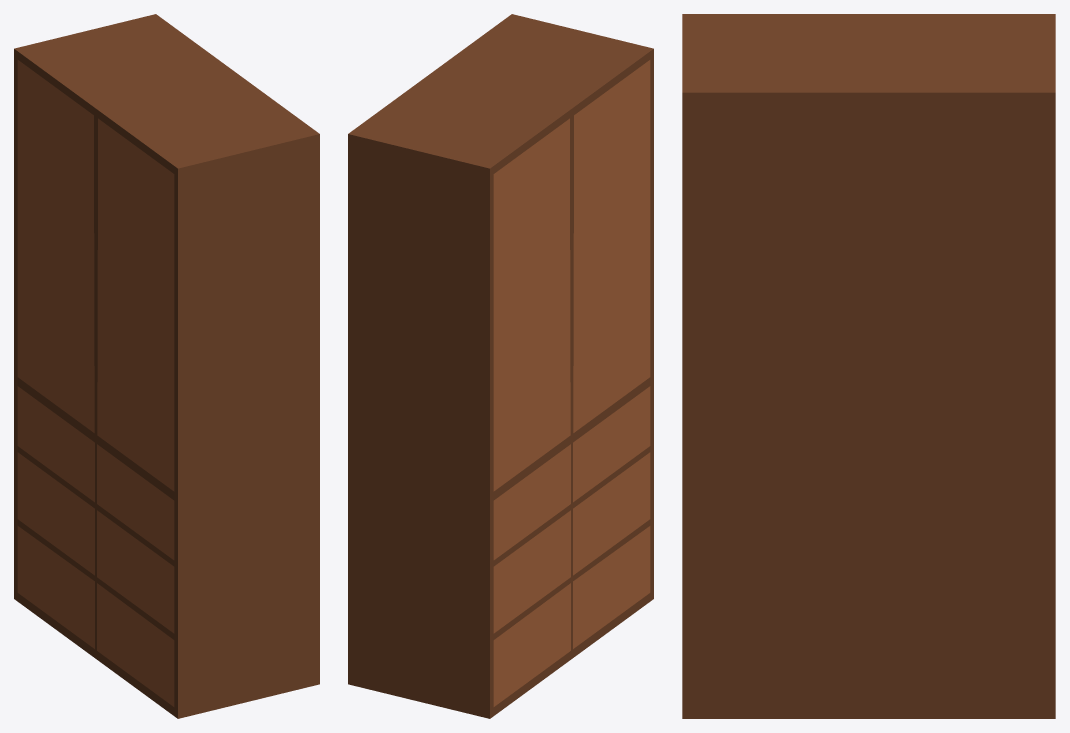
Rendered from schrank3.fbx.
3 renders of one model, left to right at view 1: azimuth 30°, elevation 25°; view 2: azimuth 150°, elevation 25°; view 3: azimuth 270°, elevation 25°, orthographic. The views are drawn at different scales.
Visible parts, largest first — view 1: Cube.005; view 2: Cube.005; view 3: Cube.005.
Part boxes in pixels (box(x1,y1,x2,y2)): Cube.005: box(14, 14, 319, 718); Cube.005: box(348, 14, 653, 718); Cube.005: box(682, 14, 1055, 718).
Bounding box in the file's own units: 35 × 130 × 70.
